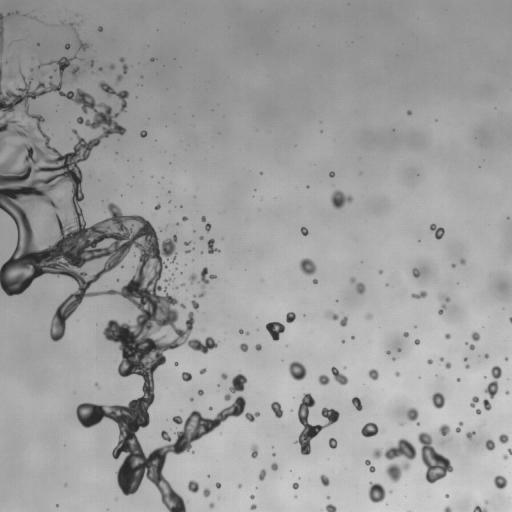droplet: (372, 437, 416, 482), (417, 431, 453, 483), (330, 190, 353, 209), (265, 321, 285, 341), (288, 360, 307, 381), (368, 481, 385, 503), (361, 422, 385, 437), (299, 258, 316, 275), (437, 293, 450, 315), (430, 392, 445, 409), (429, 223, 444, 239), (270, 401, 283, 418), (493, 474, 507, 489), (207, 238, 220, 253), (473, 500, 489, 511), (406, 407, 418, 421), (324, 310, 339, 321), (351, 396, 362, 411), (249, 443, 260, 458), (187, 480, 199, 493), (438, 424, 450, 436), (317, 374, 330, 385), (368, 368, 379, 380), (285, 312, 296, 323), (55, 47, 66, 58), (82, 48, 93, 59), (31, 71, 42, 82), (93, 90, 104, 101), (109, 96, 120, 107), (125, 126, 136, 137), (2, 145, 13, 156), (79, 180, 90, 191), (156, 231, 167, 242), (173, 241, 184, 252), (201, 253, 212, 264), (68, 281, 79, 292), (190, 281, 201, 292), (119, 296, 130, 307), (174, 317, 185, 328), (340, 325, 351, 336), (189, 328, 200, 339), (110, 340, 121, 351), (178, 342, 189, 353), (452, 359, 463, 370), (432, 361, 443, 372), (152, 367, 163, 378), (207, 368, 218, 379), (304, 370, 315, 381), (132, 374, 143, 385), (132, 387, 143, 398), (308, 405, 319, 416), (134, 427, 145, 438), (316, 430, 327, 441), (108, 436, 119, 447), (154, 437, 165, 448), (494, 442, 505, 453), (164, 451, 175, 462), (254, 456, 265, 467), (378, 456, 389, 467), (140, 476, 151, 487), (379, 476, 390, 487), (177, 486, 188, 497), (485, 439, 495, 451), (319, 474, 329, 486), (339, 313, 348, 326), (482, 398, 491, 411), (181, 371, 192, 381), (469, 396, 479, 407), (328, 437, 337, 449), (258, 468, 266, 481), (498, 433, 508, 443), (300, 226, 309, 237), (190, 300, 199, 311), (471, 331, 480, 341), (239, 342, 248, 352), (466, 430, 475, 440), (412, 267, 420, 278), (325, 504, 337, 511), (63, 49, 72, 58), (113, 83, 122, 92), (115, 116, 124, 125), (109, 131, 118, 140), (14, 135, 23, 144), (120, 206, 129, 215), (294, 267, 303, 276), (174, 274, 183, 283), (238, 334, 247, 343), (162, 348, 171, 357), (114, 352, 123, 361), (391, 361, 400, 370), (227, 369, 236, 378), (224, 378, 233, 387), (243, 403, 252, 412), (146, 405, 155, 414), (207, 410, 216, 419), (100, 416, 109, 425), (307, 416, 316, 425), (318, 416, 327, 425), (308, 437, 317, 446), (190, 439, 199, 448), (413, 441, 422, 450), (180, 449, 189, 458), (160, 467, 169, 476), (399, 469, 408, 478), (109, 474, 118, 483), (439, 498, 448, 507), (183, 502, 192, 511), (270, 462, 278, 471), (203, 487, 210, 497), (205, 222, 211, 233), (505, 479, 511, 490), (63, 42, 71, 50), (443, 505, 453, 511), (444, 361, 451, 369), (220, 373, 228, 380), (0, 153, 5, 164), (140, 130, 147, 137), (199, 367, 206, 374), (197, 389, 204, 396), (292, 482, 299, 489), (2, 30, 9, 37), (70, 41, 77, 48), (77, 50, 84, 57), (69, 59, 76, 66), (79, 63, 86, 70), (102, 65, 109, 72), (63, 66, 70, 73), (115, 66, 122, 73), (23, 70, 30, 77), (108, 80, 115, 87), (28, 84, 35, 91), (60, 85, 67, 92), (82, 86, 89, 93), (99, 137, 106, 144), (90, 146, 97, 153), (342, 189, 349, 196), (326, 200, 333, 207), (342, 201, 349, 208), (104, 211, 111, 218), (150, 221, 157, 228), (191, 233, 198, 240), (203, 233, 210, 240), (201, 243, 208, 250), (304, 252, 311, 259), (307, 253, 314, 260), (294, 257, 301, 264), (160, 269, 167, 276), (183, 270, 190, 277), (311, 271, 318, 278), (307, 273, 314, 280), (62, 274, 69, 281), (355, 275, 362, 282), (31, 277, 38, 284), (156, 278, 163, 285), (173, 278, 180, 285), (363, 282, 370, 289), (349, 283, 356, 290), (24, 286, 31, 293), (363, 286, 370, 293), (81, 295, 88, 302), (169, 303, 176, 310), (186, 304, 193, 311), (49, 307, 56, 314), (134, 308, 141, 315), (64, 317, 71, 324), (279, 317, 286, 324), (116, 318, 123, 325), (101, 320, 108, 327), (264, 331, 271, 338), (98, 333, 105, 340), (407, 334, 414, 341), (247, 343, 254, 350), (195, 349, 202, 356), (390, 349, 397, 356), (432, 357, 439, 364), (156, 364, 163, 371), (304, 365, 311, 372), (326, 371, 333, 378), (287, 375, 294, 382), (487, 375, 494, 382), (365, 376, 372, 383), (496, 377, 503, 384), (297, 378, 304, 385), (152, 388, 159, 395), (427, 389, 434, 396), (233, 390, 240, 397), (191, 391, 198, 398), (483, 392, 490, 399), (228, 397, 235, 404), (93, 398, 100, 405), (122, 399, 129, 406), (426, 399, 433, 406), (476, 401, 483, 408), (348, 403, 355, 410), (238, 412, 245, 419), (226, 415, 233, 422), (401, 415, 408, 422), (438, 418, 445, 425), (74, 420, 81, 427), (219, 420, 226, 427), (91, 423, 98, 430), (176, 423, 183, 430), (297, 423, 304, 430), (212, 426, 219, 433), (416, 426, 423, 433), (460, 426, 467, 433), (448, 427, 455, 434), (201, 433, 208, 440), (170, 435, 177, 442), (493, 438, 500, 445), (391, 440, 398, 447), (435, 447, 442, 454), (143, 449, 150, 456), (119, 451, 126, 458), (268, 456, 275, 463), (448, 459, 455, 466), (420, 464, 427, 471), (265, 467, 272, 474), (324, 471, 331, 478), (192, 475, 199, 482), (435, 478, 442, 485), (488, 480, 495, 487), (209, 485, 216, 492), (115, 487, 122, 494), (196, 487, 203, 494), (154, 491, 161, 498), (205, 495, 212, 502), (443, 498, 450, 505), (376, 500, 383, 507), (255, 343, 261, 351), (506, 438, 511, 447), (365, 313, 372, 319), (444, 333, 451, 339), (413, 339, 420, 345), (426, 358, 433, 364), (94, 382, 100, 389), (215, 482, 221, 489), (250, 504, 257, 510), (109, 63, 115, 69), (329, 171, 335, 177), (312, 278, 318, 284), (394, 371, 400, 377), (460, 258, 465, 265), (402, 332, 409, 337), (97, 26, 103, 31), (182, 216, 188, 221), (484, 353, 489, 359), (209, 502, 214, 508), (150, 57, 157, 61), (201, 215, 205, 222), (507, 434, 511, 441), (53, 507, 60, 511), (162, 507, 169, 511), (209, 507, 216, 511), (437, 507, 444, 511), (450, 507, 457, 511), (406, 110, 411, 115), (451, 263, 456, 268), (378, 269, 383, 274), (465, 364, 470, 369), (476, 409, 481, 414), (249, 494, 254, 499), (18, 9, 23, 14), (1, 11, 6, 16), (74, 17, 79, 22), (65, 18, 70, 23), (2, 22, 7, 27), (2, 43, 7, 48), (2, 48, 7, 53), (118, 52, 123, 57), (85, 56, 90, 61), (0, 57, 5, 62), (123, 59, 128, 64), (93, 62, 98, 67), (40, 65, 45, 70), (32, 67, 37, 72), (126, 67, 131, 72), (1, 69, 6, 74), (1, 76, 6, 81), (138, 78, 143, 83), (53, 80, 58, 85), (44, 82, 49, 87), (19, 83, 24, 88), (14, 89, 19, 94), (124, 96, 129, 101), (94, 99, 99, 104), (410, 107, 415, 112), (109, 110, 114, 115), (401, 110, 406, 115), (97, 142, 102, 147), (86, 156, 91, 161), (76, 161, 81, 166), (351, 198, 356, 203), (77, 200, 82, 205), (103, 201, 108, 206), (156, 208, 161, 213), (137, 211, 142, 216), (143, 215, 148, 220), (177, 217, 182, 222), (9, 218, 14, 223), (425, 223, 430, 228), (153, 226, 158, 231), (209, 226, 214, 231), (425, 226, 430, 231), (297, 231, 302, 236), (212, 242, 217, 247), (186, 244, 191, 249), (10, 245, 15, 250), (168, 253, 173, 258), (160, 255, 165, 260), (464, 259, 469, 264), (455, 261, 460, 266), (177, 266, 182, 271), (417, 266, 422, 271), (161, 267, 166, 272), (197, 267, 202, 272), (174, 270, 179, 275), (351, 272, 356, 277), (204, 273, 209, 278), (408, 273, 413, 278), (196, 274, 201, 279), (415, 276, 420, 281), (208, 278, 213, 283), (344, 278, 349, 283), (184, 279, 189, 284), (178, 285, 183, 290), (420, 286, 425, 291), (414, 289, 419, 294), (155, 290, 160, 295), (355, 292, 360, 297), (446, 292, 451, 297), (12, 293, 17, 298), (106, 293, 111, 298), (94, 294, 99, 299), (60, 296, 65, 301), (419, 296, 424, 301), (194, 297, 199, 302), (412, 297, 417, 302), (445, 301, 450, 306), (287, 307, 292, 312), (333, 309, 338, 314), (192, 314, 197, 319), (337, 315, 342, 320), (269, 317, 274, 322), (292, 318, 297, 323), (346, 319, 351, 324), (191, 322, 196, 327), (341, 325, 346, 330), (444, 328, 449, 333), (278, 332, 283, 337), (449, 332, 454, 337), (478, 332, 483, 337), (61, 334, 66, 339), (440, 335, 445, 340), (478, 335, 483, 340), (345, 336, 350, 341), (47, 337, 52, 342), (57, 338, 62, 343), (445, 338, 450, 343), (468, 338, 473, 343), (254, 339, 259, 344), (272, 339, 277, 344), (216, 342, 221, 347), (464, 344, 469, 349), (236, 347, 241, 352), (479, 352, 484, 357), (488, 352, 493, 357), (425, 354, 430, 359), (465, 359, 470, 364), (440, 360, 445, 365), (494, 361, 499, 366), (450, 362, 455, 367), (113, 364, 118, 369), (198, 364, 203, 369), (371, 364, 376, 369), (487, 364, 492, 369), (367, 365, 372, 370), (443, 367, 448, 372), (113, 368, 118, 373), (186, 368, 191, 373), (222, 368, 227, 373), (338, 369, 343, 374), (390, 369, 395, 374), (500, 369, 505, 374), (242, 371, 247, 376), (190, 372, 195, 377), (201, 372, 206, 377), (377, 373, 382, 378), (390, 373, 395, 378), (190, 375, 195, 380), (396, 375, 401, 380), (217, 376, 222, 381), (187, 379, 192, 384), (314, 379, 319, 384), (97, 380, 102, 385), (345, 381, 350, 386), (242, 382, 247, 387), (319, 383, 324, 388), (323, 383, 328, 388), (91, 385, 96, 390), (304, 388, 309, 393), (225, 389, 230, 394), (351, 392, 356, 397), (310, 393, 315, 398), (442, 393, 447, 398), (493, 393, 498, 398), (219, 394, 224, 399), (272, 396, 277, 401), (152, 397, 157, 402), (467, 397, 472, 402), (268, 398, 273, 403), (296, 399, 301, 404), (359, 399, 364, 404), (443, 400, 448, 405), (294, 404, 299, 409), (326, 404, 331, 409), (280, 405, 285, 410), (194, 406, 199, 411), (307, 406, 312, 411), (334, 406, 339, 411), (432, 406, 437, 411), (435, 407, 440, 412), (470, 407, 475, 412), (488, 408, 493, 413), (172, 411, 177, 416), (270, 411, 275, 416), (293, 413, 298, 418), (253, 415, 258, 420), (337, 415, 342, 420), (181, 416, 186, 421), (415, 416, 420, 421), (294, 417, 299, 422), (244, 418, 249, 423), (371, 418, 376, 423), (411, 419, 416, 424), (333, 420, 338, 425), (171, 421, 176, 426), (358, 423, 363, 428), (376, 423, 381, 428), (467, 427, 472, 432), (501, 429, 506, 434), (497, 430, 502, 435), (156, 431, 161, 436), (444, 433, 449, 438), (293, 435, 298, 440), (368, 435, 373, 440), (480, 441, 485, 446), (324, 442, 329, 447), (296, 443, 301, 448), (484, 448, 489, 453), (256, 449, 261, 454), (256, 452, 261, 457), (302, 453, 307, 458), (108, 454, 113, 459), (276, 462, 281, 467), (276, 466, 281, 471), (255, 469, 260, 474), (445, 470, 450, 475), (497, 470, 502, 475), (493, 471, 498, 476), (263, 475, 268, 480), (293, 477, 298, 482), (328, 478, 333, 483), (296, 479, 301, 484), (423, 479, 428, 484), (317, 480, 322, 485), (183, 481, 188, 486), (366, 483, 371, 488), (503, 485, 508, 490), (495, 487, 500, 492), (499, 487, 504, 492), (291, 488, 296, 493), (127, 493, 132, 498), (250, 498, 255, 503), (326, 499, 331, 504), (331, 501, 336, 506), (213, 502, 218, 507), (448, 503, 453, 508), (204, 504, 209, 509), (470, 504, 475, 509), (485, 504, 490, 509), (0, 108, 3, 115), (0, 118, 3, 125), (0, 260, 3, 267), (0, 286, 3, 293), (75, 13, 80, 17), (29, 67, 33, 72), (397, 347, 401, 352), (439, 357, 444, 361), (504, 356, 508, 361), (174, 361, 178, 366), (456, 377, 460, 382), (399, 422, 404, 426), (415, 422, 420, 426), (237, 483, 241, 488), (444, 494, 449, 498), (259, 171, 263, 175), (351, 335, 355, 339), (386, 350, 390, 354), (391, 357, 395, 361), (463, 357, 467, 361), (505, 390, 509, 394), (189, 397, 193, 401), (208, 406, 212, 410), (289, 408, 293, 412), (206, 474, 210, 478), (326, 495, 330, 499), (174, 222, 179, 225), (198, 236, 203, 239), (180, 283, 185, 286), (272, 452, 275, 457), (508, 356, 511, 361), (508, 388, 511, 393), (508, 391, 511, 396), (508, 454, 511, 459), (251, 508, 256, 511), (322, 508, 327, 511), (335, 508, 340, 511), (36, 42, 39, 46), (320, 129, 323, 133), (359, 171, 362, 175), (167, 190, 170, 194), (159, 227, 162, 231), (192, 229, 195, 233), (200, 250, 203, 254), (175, 267, 178, 271), (116, 278, 119, 282), (385, 283, 389, 286), (302, 313, 305, 317), (413, 325, 417, 328), (341, 339, 344, 343), (343, 366, 346, 370), (435, 374, 438, 378), (219, 431, 222, 435), (64, 483, 67, 487), (388, 490, 392, 493), (294, 494, 297, 498), (133, 252, 135, 257), (0, 207, 2, 212), (140, 75, 143, 78), (434, 118, 437, 121), (392, 128, 395, 131), (150, 175, 153, 178), (306, 185, 309, 188), (168, 200, 171, 203), (506, 216, 509, 219), (335, 299, 338, 302), (256, 328, 259, 331), (292, 396, 295, 399), (271, 445, 274, 448), (114, 497, 117, 500), (56, 504, 59, 507), (8, 9, 11, 12), (12, 9, 15, 12), (31, 13, 34, 16), (22, 15, 25, 18), (36, 15, 39, 18), (32, 18, 35, 21), (69, 19, 72, 22), (57, 21, 60, 24), (67, 25, 70, 28), (95, 25, 98, 28), (102, 27, 105, 30), (70, 30, 73, 33), (77, 30, 80, 33), (98, 31, 101, 34), (33, 42, 36, 45), (39, 42, 42, 45), (35, 45, 38, 48), (61, 45, 64, 48), (148, 55, 151, 58), (153, 55, 156, 58), (92, 57, 95, 60), (46, 59, 49, 62), (153, 59, 156, 62), (148, 60, 151, 63), (36, 61, 39, 64), (107, 62, 110, 65), (15, 68, 18, 71), (78, 68, 81, 71), (97, 70, 100, 73), (19, 76, 22, 79), (0, 84, 3, 87), (407, 114, 410, 117), (319, 126, 322, 129), (140, 127, 143, 130), (316, 129, 319, 132), (322, 130, 325, 133), (123, 131, 126, 134), (144, 135, 147, 138), (115, 148, 118, 151), (477, 167, 480, 170), (259, 168, 262, 171), (331, 168, 334, 171), (327, 169, 330, 172), (334, 171, 337, 174), (257, 173, 260, 176), (416, 175, 419, 178), (329, 176, 332, 179), (159, 180, 162, 183), (304, 182, 307, 185), (307, 182, 310, 185), (252, 185, 255, 188), (303, 186, 306, 189), (308, 186, 311, 189), (168, 187, 171, 190), (255, 188, 258, 191), (164, 189, 167, 192), (251, 190, 254, 193), (83, 194, 86, 197), (166, 197, 169, 200), (170, 200, 173, 203), (154, 202, 157, 205), (159, 203, 162, 206), (176, 204, 179, 207), (182, 204, 185, 207), (179, 207, 182, 210), (81, 210, 84, 213), (201, 212, 204, 215), (505, 213, 508, 216), (185, 214, 188, 217), (198, 217, 201, 220), (504, 218, 507, 221), (184, 219, 187, 222), (173, 220, 176, 223), (432, 220, 435, 223), (203, 221, 206, 224), (174, 224, 177, 227), (305, 225, 308, 228), (297, 227, 300, 230), (443, 228, 446, 231), (14, 229, 17, 232), (189, 229, 192, 232), (203, 229, 206, 232), (175, 233, 178, 236), (14, 234, 17, 237), (305, 234, 308, 237), (441, 235, 444, 238), (416, 236, 419, 239), (14, 237, 17, 240), (420, 238, 423, 241), (185, 239, 188, 242), (417, 241, 420, 244), (190, 249, 193, 252), (213, 250, 216, 253), (186, 252, 189, 255), (209, 252, 212, 255), (175, 264, 178, 267), (448, 264, 451, 267), (378, 266, 381, 269), (375, 270, 378, 273), (381, 272, 384, 275), (170, 275, 173, 278), (216, 275, 219, 278), (385, 279, 388, 282), (168, 280, 171, 283), (317, 280, 320, 283), (382, 282, 385, 285), (388, 282, 391, 285), (176, 283, 179, 286), (313, 283, 316, 286), (386, 285, 389, 288), (161, 286, 164, 289), (408, 294, 411, 297), (334, 296, 337, 299), (337, 300, 340, 303), (334, 301, 337, 304), (196, 307, 199, 310), (442, 309, 445, 312), (304, 311, 307, 314), (304, 315, 307, 318), (506, 318, 509, 321), (92, 322, 95, 325), (412, 322, 415, 325), (416, 323, 419, 326), (415, 327, 418, 330), (404, 329, 407, 332), (407, 330, 410, 333), (236, 331, 239, 334), (400, 331, 403, 334), (351, 332, 354, 335), (354, 335, 357, 338), (401, 335, 404, 338), (340, 336, 343, 339), (417, 336, 420, 339), (350, 338, 353, 341), (338, 340, 341, 343), (461, 341, 464, 344), (417, 343, 420, 346), (399, 345, 402, 348), (260, 346, 263, 349), (385, 347, 388, 350), (254, 349, 257, 352), (258, 349, 261, 352), (400, 349, 403, 352), (469, 349, 472, 352), (385, 353, 388, 356), (438, 354, 441, 357), (463, 354, 466, 357), (460, 357, 463, 360), (483, 357, 486, 360), (174, 358, 177, 361), (394, 359, 397, 362), (463, 361, 466, 364), (177, 362, 180, 365), (428, 363, 431, 366), (174, 365, 177, 368), (205, 367, 208, 370), (467, 367, 470, 370), (396, 368, 399, 371), (456, 374, 459, 377), (179, 376, 182, 379), (418, 378, 421, 381), (453, 378, 456, 381), (459, 378, 462, 381), (456, 381, 459, 384), (199, 386, 202, 389), (216, 386, 219, 389), (195, 388, 198, 391), (202, 388, 205, 391), (201, 393, 204, 396), (186, 398, 189, 401), (209, 403, 212, 406), (259, 412, 262, 415), (475, 413, 478, 416), (458, 418, 461, 421), (164, 428, 167, 431), (474, 429, 477, 432), (471, 434, 474, 437), (332, 435, 335, 438), (335, 438, 338, 441), (336, 442, 339, 445), (268, 444, 271, 447), (273, 444, 276, 447), (329, 447, 332, 450), (109, 449, 112, 452), (271, 449, 274, 452), (248, 451, 251, 454), (251, 457, 254, 460), (362, 459, 365, 462), (367, 464, 370, 467), (374, 466, 377, 469), (291, 468, 294, 471), (206, 471, 209, 474), (288, 471, 291, 474), (368, 471, 371, 474), (298, 473, 301, 476), (209, 474, 212, 477), (300, 476, 303, 479), (218, 480, 221, 483), (220, 483, 223, 486), (234, 483, 237, 486), (289, 484, 292, 487), (240, 485, 243, 488), (297, 486, 300, 489), (236, 487, 239, 490), (447, 491, 450, 494), (248, 492, 251, 495), (252, 492, 255, 495), (323, 494, 326, 497), (247, 496, 250, 499), (296, 496, 299, 499), (55, 500, 58, 503), (52, 503, 55, 506), (58, 503, 61, 506), (255, 503, 258, 506), (115, 152, 118, 154), (221, 237, 223, 240), (192, 259, 194, 262), (360, 261, 363, 263), (171, 273, 174, 275), (285, 344, 287, 347), (418, 376, 421, 378), (483, 376, 486, 378), (509, 216, 511, 219), (509, 313, 511, 316), (107, 509, 110, 511), (135, 96, 137, 98), (51, 133, 53, 135), (169, 162, 171, 164), (161, 176, 163, 178), (254, 189, 256, 191), (252, 195, 254, 197), (101, 200, 103, 202), (140, 202, 142, 204), (174, 205, 176, 207), (180, 205, 182, 207), (418, 240, 420, 242), (184, 264, 186, 266), (502, 307, 504, 309), (298, 477, 300, 479), (255, 487, 257, 489), (385, 503, 387, 505), (140, 159, 142, 160), (478, 166, 480, 167), (417, 174, 419, 175), (121, 194, 122, 196), (132, 266, 134, 267), (457, 282, 458, 284), (141, 85, 142, 86), (96, 324, 97, 325)
ligament: (224, 370, 247, 401), (484, 365, 501, 399), (330, 366, 348, 385), (116, 57, 128, 84), (349, 276, 365, 295), (411, 290, 427, 299), (365, 459, 375, 473), (502, 448, 511, 460), (464, 341, 475, 350), (455, 421, 463, 433), (238, 328, 249, 335), (184, 247, 194, 253), (154, 201, 160, 210), (184, 240, 192, 245), (172, 286, 178, 289), (217, 382, 220, 387), (509, 317, 511, 324), (165, 225, 168, 229), (180, 271, 182, 274), (406, 510, 411, 511)
